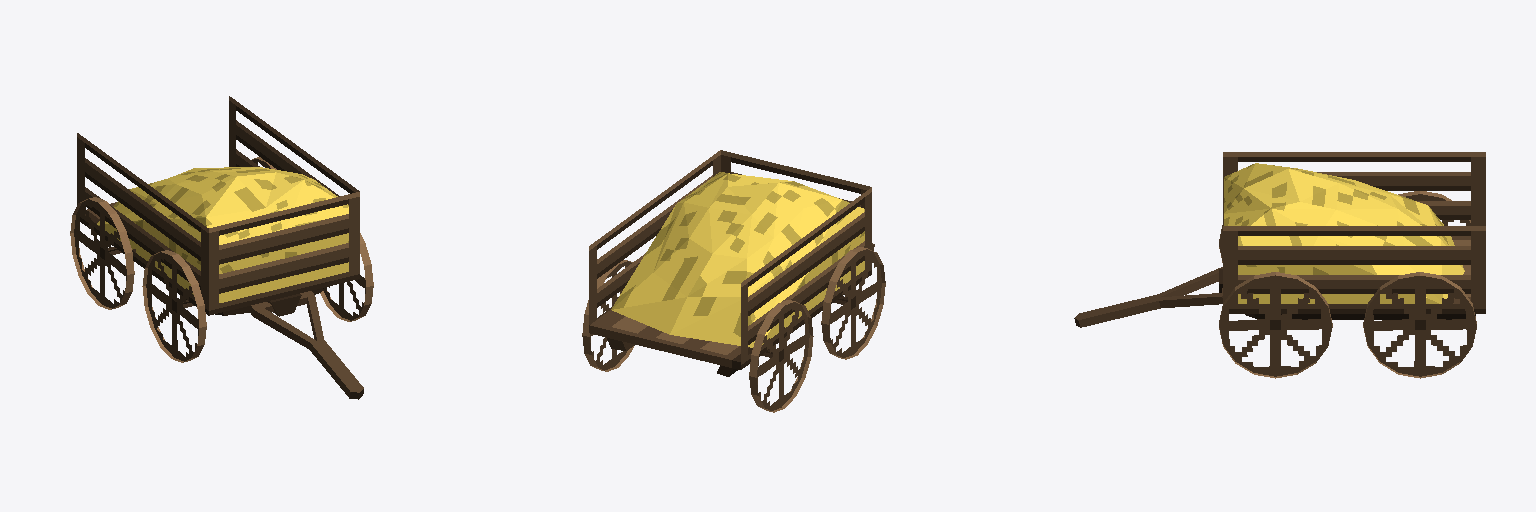
3 views of the same model, side by side, from view 1: azimuth 30°, elevation 25°; view 2: azimuth 150°, elevation 25°; view 3: azimuth 270°, elevation 25° (orthographic).
Visible parts, largest first — view 1: hay_wagon_Plane.003; view 2: hay_wagon_Plane.003; view 3: hay_wagon_Plane.003.
Part boxes in pixels (x1,y1,x2,y2): hay_wagon_Plane.003: (70,96,373,399); hay_wagon_Plane.003: (582,150,885,412); hay_wagon_Plane.003: (1074,152,1485,378).
Bounding box in the file's own units: 2.3 × 2.02 × 4.7.
Materials: 1 (1 with a texture image).